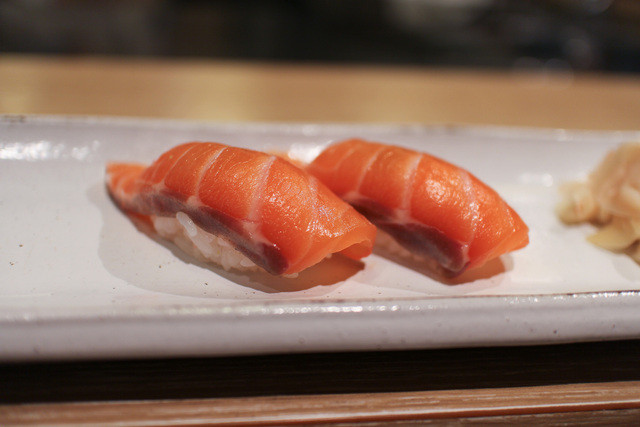salmon: (112, 143, 374, 282)
